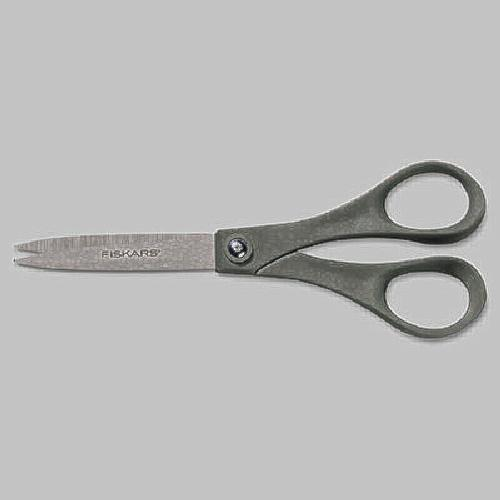stapler: (31, 165, 500, 343)
